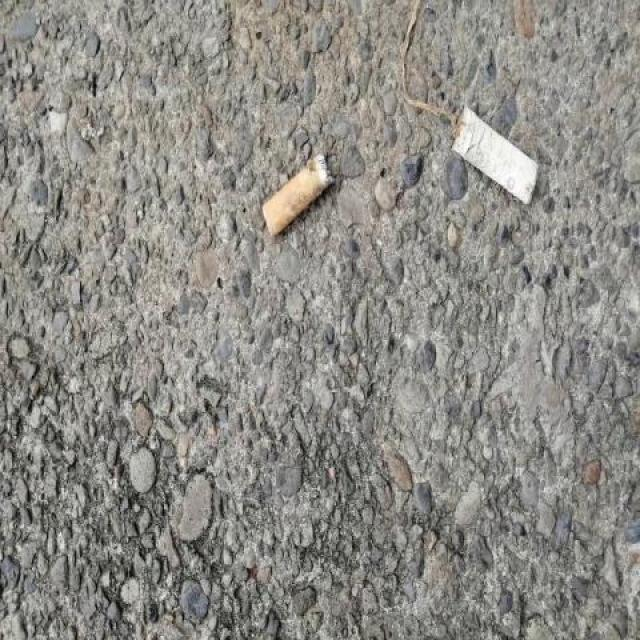non-organic waste: (448, 99, 543, 206), (260, 148, 340, 240)
